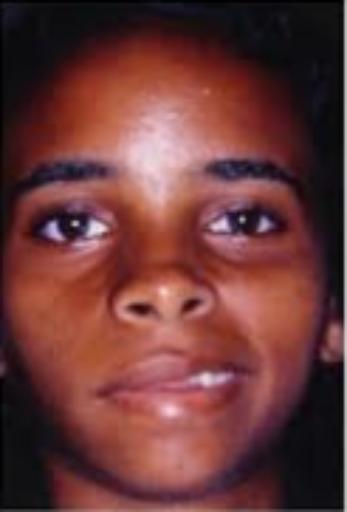left_eye: (202, 205, 292, 251)
left_lip_corner: (241, 359, 263, 384)
right_eye: (23, 206, 119, 254)
right_lip_corner: (89, 379, 115, 407)
